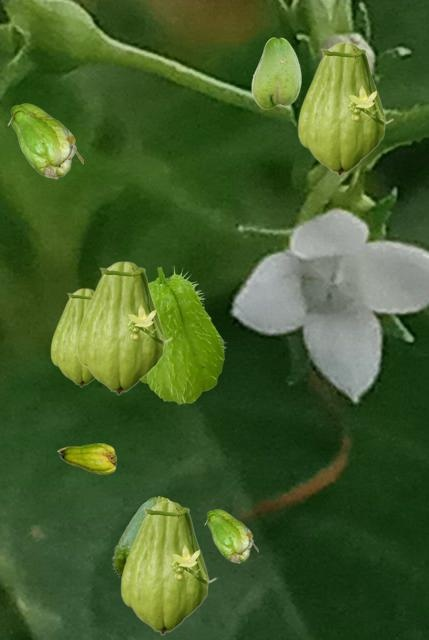sayote: (297, 42, 393, 175), (120, 501, 216, 634), (76, 261, 172, 394), (140, 265, 226, 403), (7, 103, 82, 178), (111, 496, 170, 578), (50, 288, 94, 386), (251, 37, 300, 108), (204, 509, 257, 562), (57, 443, 115, 473)
